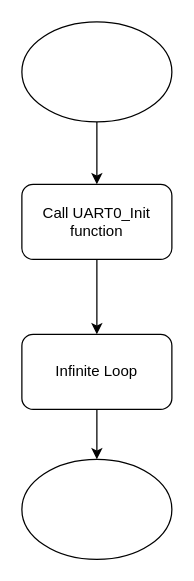
The diagram is 194 pixels wide and 581 high, and some of its shapes have lost their labels. The centre of each missing label's shape, as x and y in pixels:
"Start" goes at pixel 96 71.
"Stop" goes at pixel 96 508.
